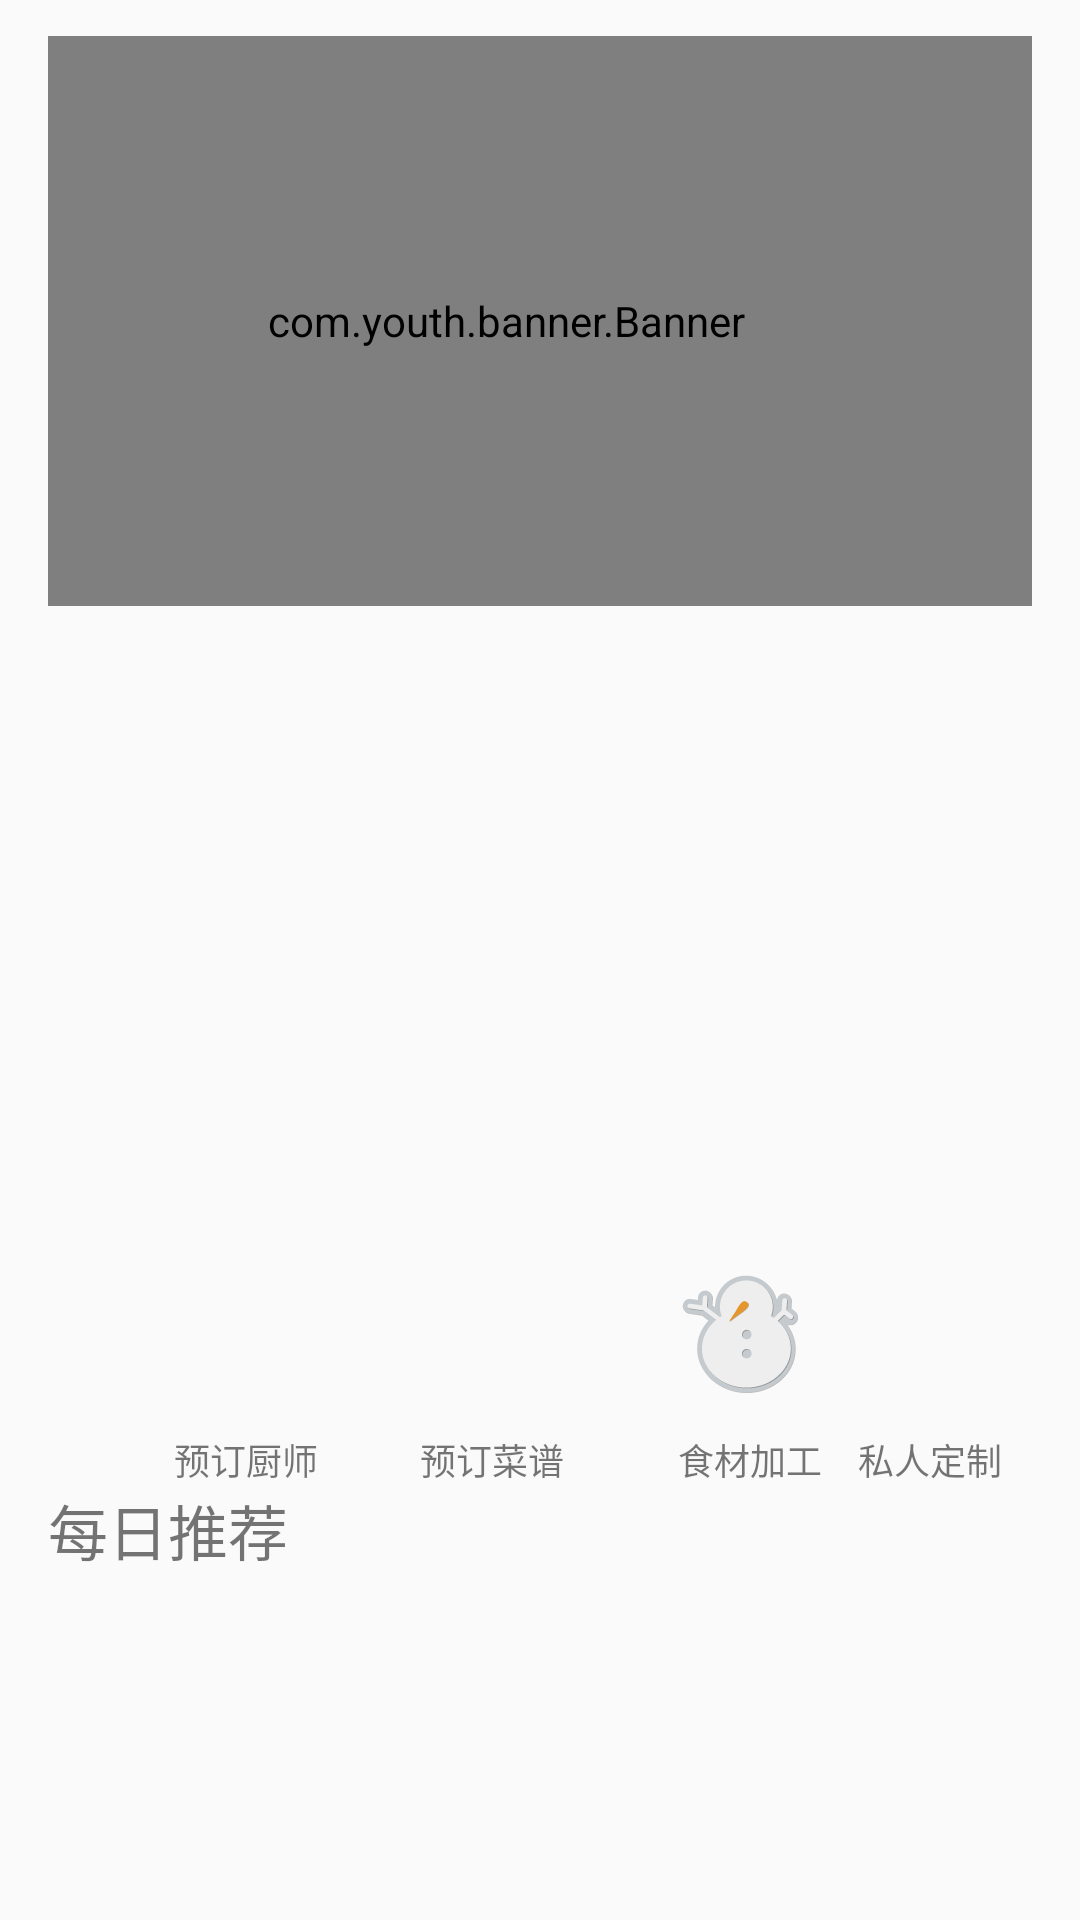

Icon bounding boxes for this 1080px x 1920px phone screenshot, format (x1, y1, x2, y2):
art snow: (682, 1275, 798, 1393)
